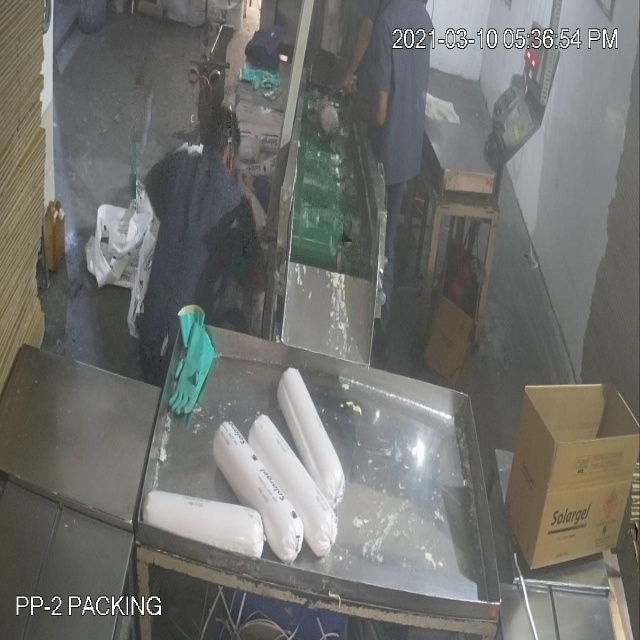Sin_guantes: (326, 16, 385, 98)
